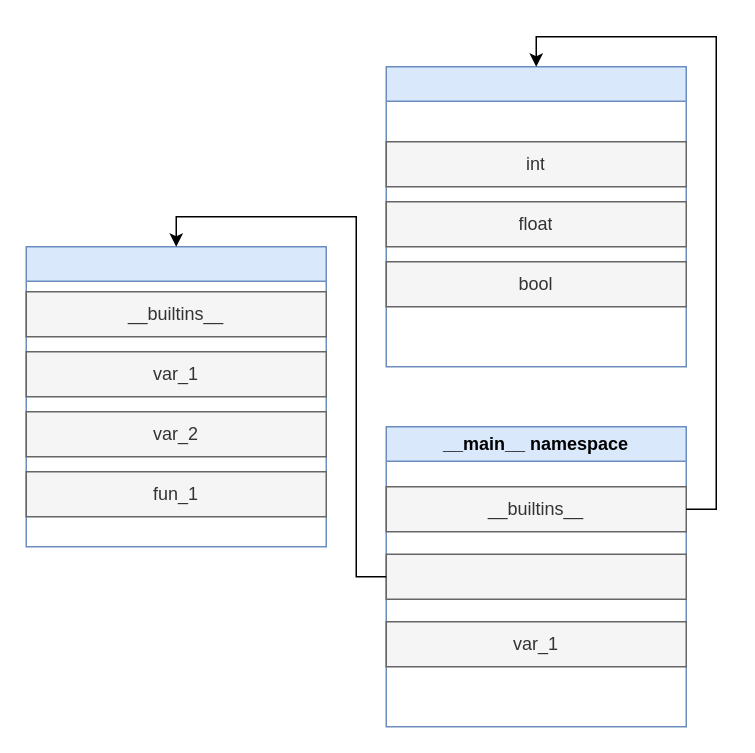
The diagram is 755 pixels wide and 753 high, and some of its shapes have lost their labels. Here are the shapes that lost their labels. From the top down, the box of each, then its label:
(385, 65, 686, 367): builtins namesapce
(25, 245, 326, 547): xmod namespace
(385, 553, 686, 599): xmod
